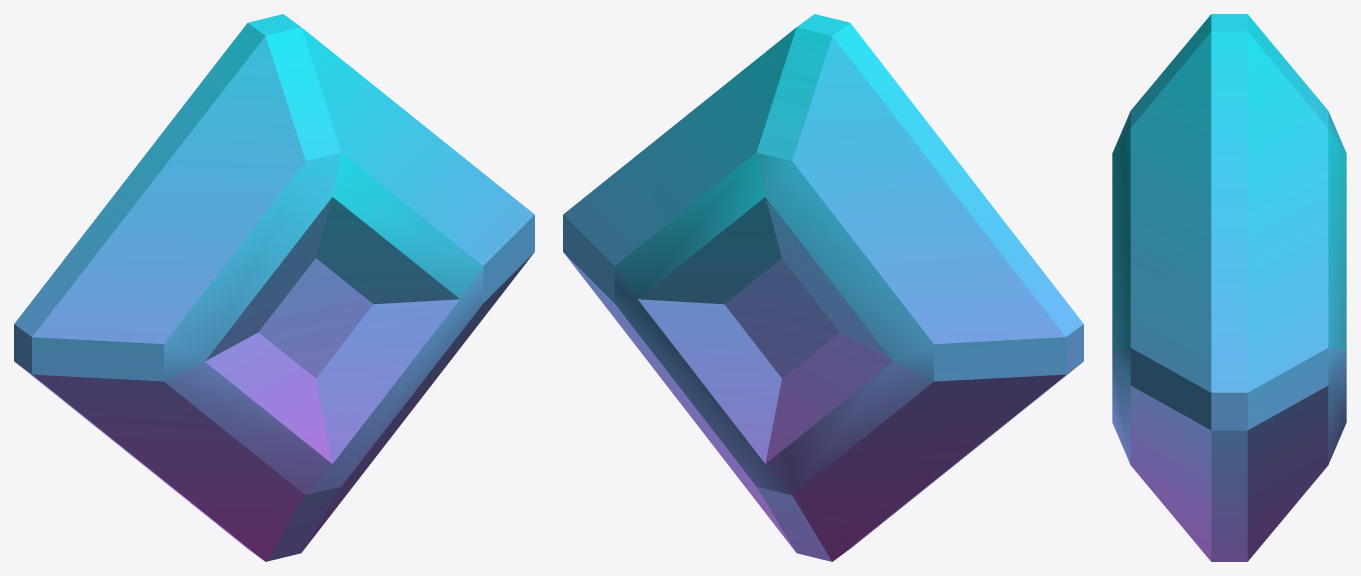
Rendered from gem_large.glb.
3 views of the same model, side by side, from view 1: azimuth 30°, elevation 25°; view 2: azimuth 150°, elevation 25°; view 3: azimuth 270°, elevation 25° (orthographic).
Visible parts, largest first — view 1: Gem_Large; view 2: Gem_Large; view 3: Gem_Large.
Part boxes in pixels (bbox=[...]): Gem_Large: bbox=[14, 14, 534, 561]; Gem_Large: bbox=[563, 14, 1083, 561]; Gem_Large: bbox=[1112, 14, 1346, 561].
Size of the model in its own units: 0.75 by 0.75 by 0.3.
Materials: 1 (1 with a texture image).
